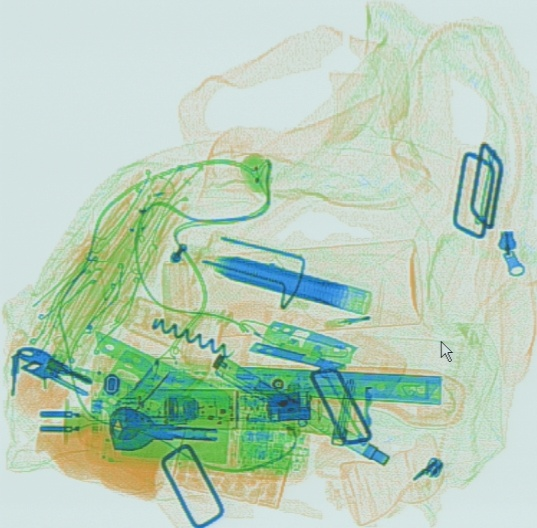knife: (231, 361, 469, 429), (90, 329, 198, 390), (241, 339, 347, 376)
